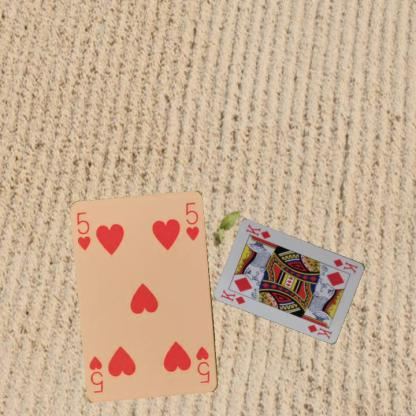5h: (74, 210, 92, 252), (194, 344, 212, 385)
Kd: (218, 286, 247, 306), (331, 256, 359, 275)
